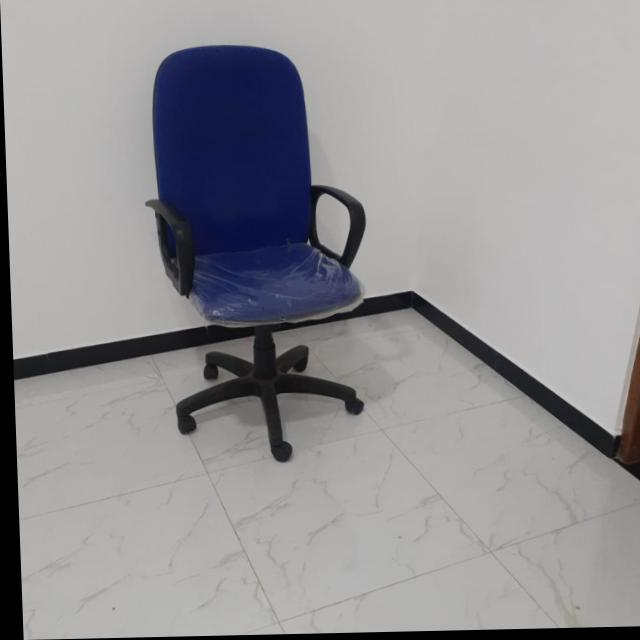Chair: (137, 43, 374, 465)
